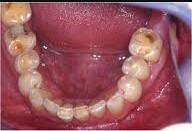LL1BC_healthy: (118, 75, 142, 103)
LL1M_decay: (129, 28, 163, 62)
LL2BC_healthy: (123, 56, 151, 81)
LL2M_decay: (149, 11, 173, 31)
LLCI_healthy: (75, 103, 91, 122)
LLC_healthy: (105, 88, 124, 115)
LLLI_healthy: (91, 99, 106, 120)
LR1BC_decay: (18, 73, 43, 95)
LR1M_decay: (6, 26, 36, 53)
LR2BC_decay: (15, 52, 40, 72)
LR2M_decay: (1, 2, 32, 27)
LRCI_healthy: (58, 102, 74, 123)
LRC_healthy: (31, 89, 51, 108)
LRLI_healthy: (45, 98, 59, 115)
